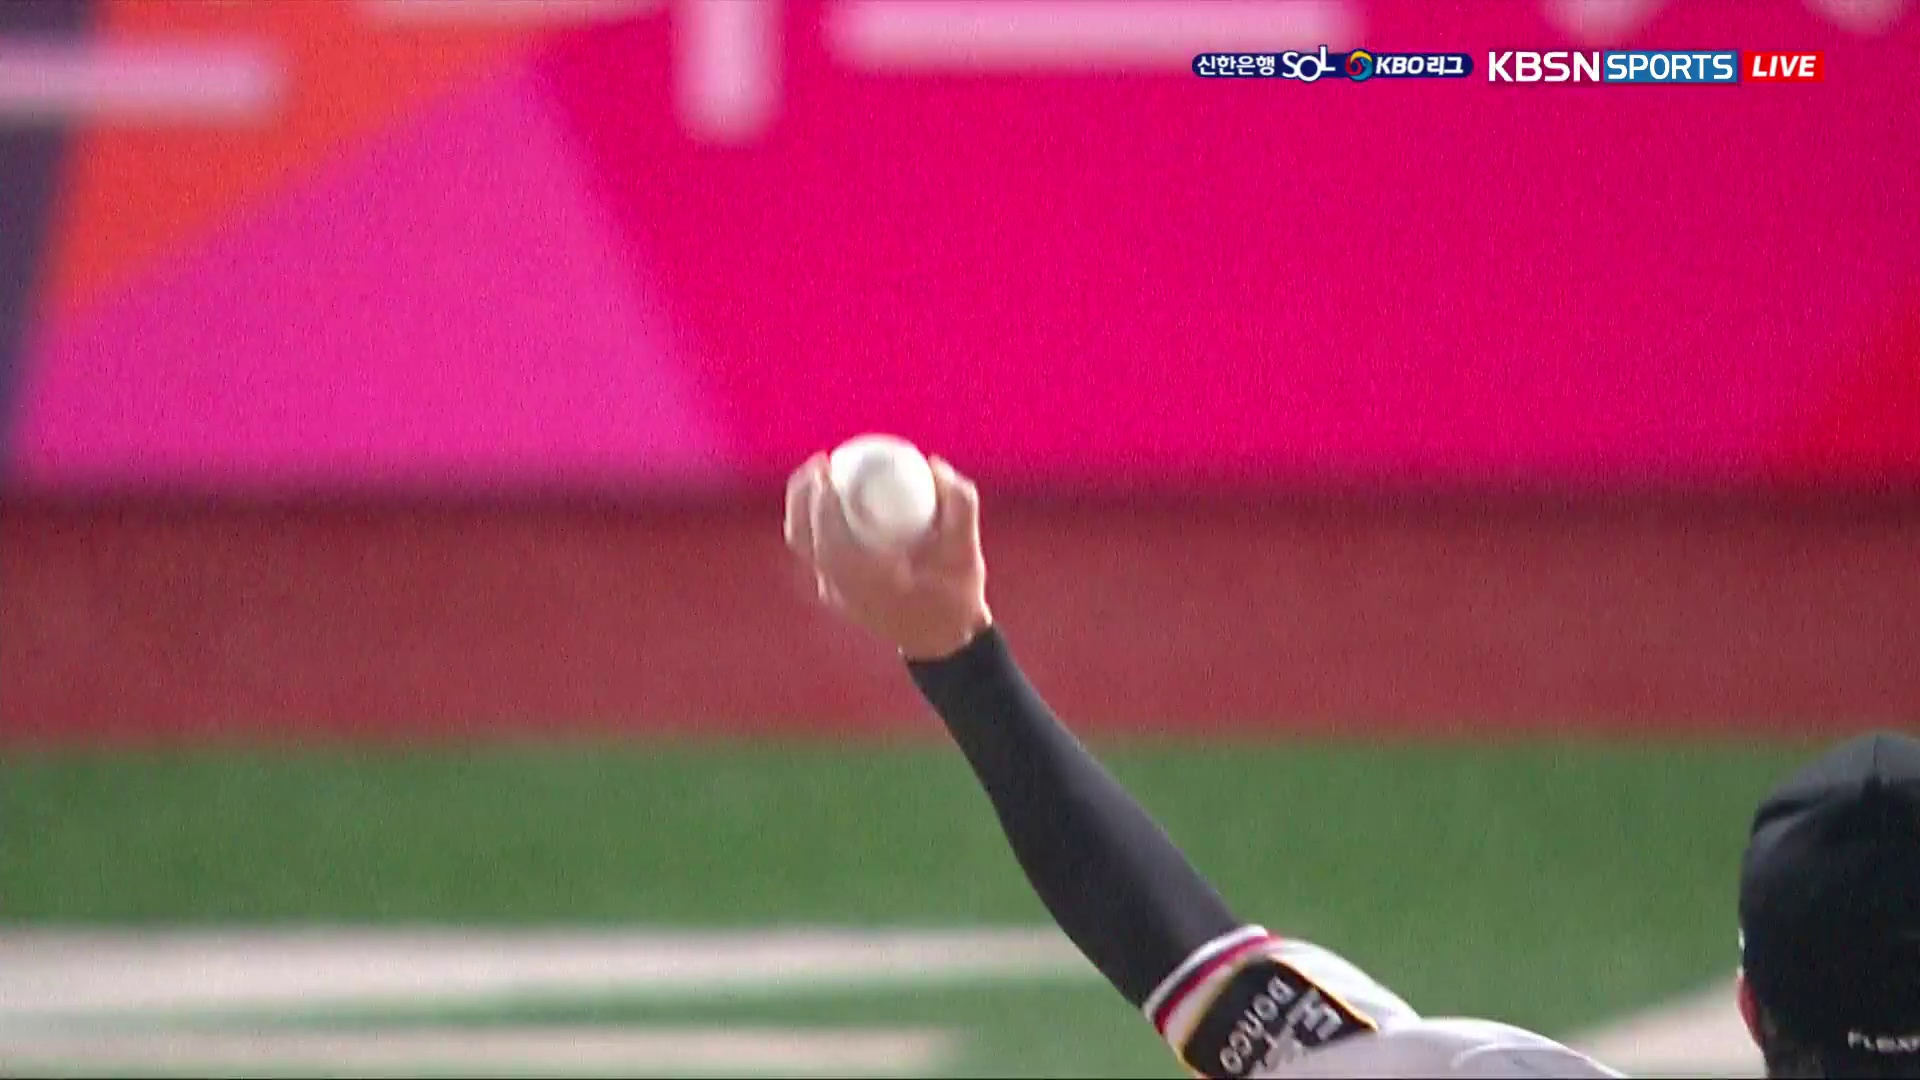zoomin_hand: (771, 429, 1273, 1009)
